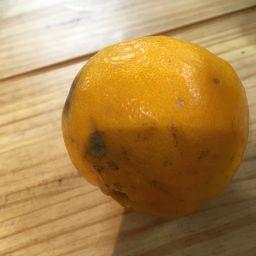Unripe: (59, 35, 247, 215)
